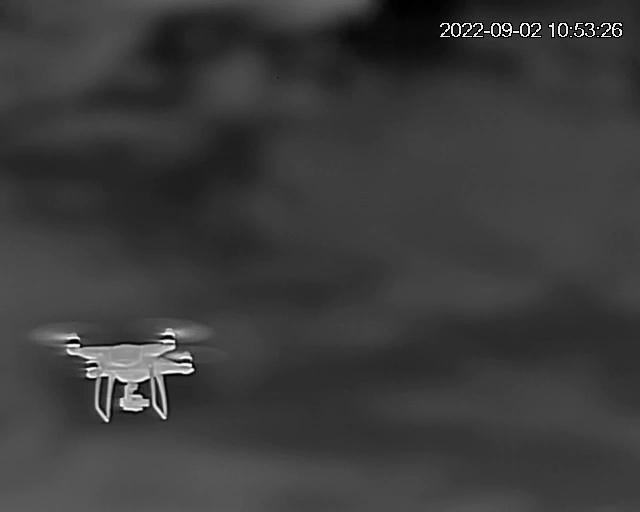DJI-Phantom: (29, 321, 227, 420)
